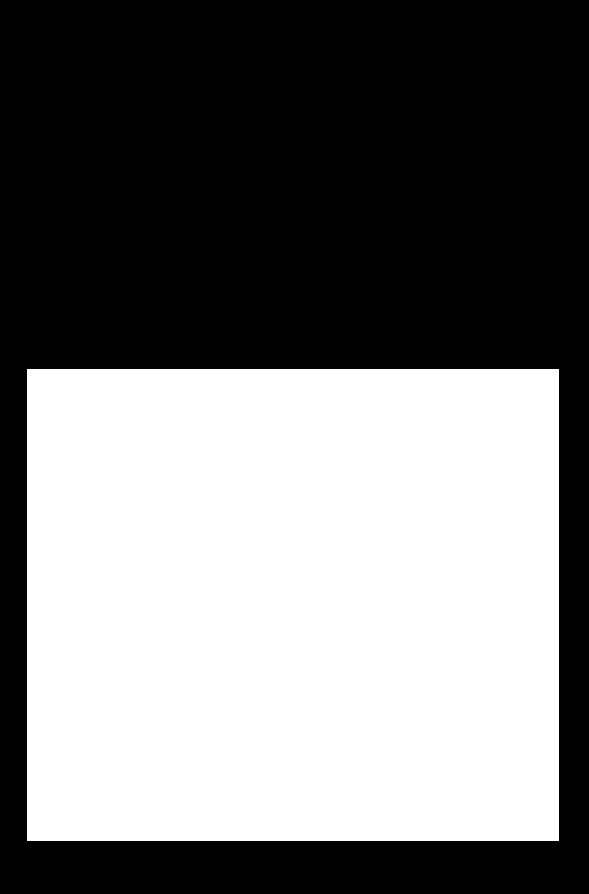table: (27, 369, 558, 840)
